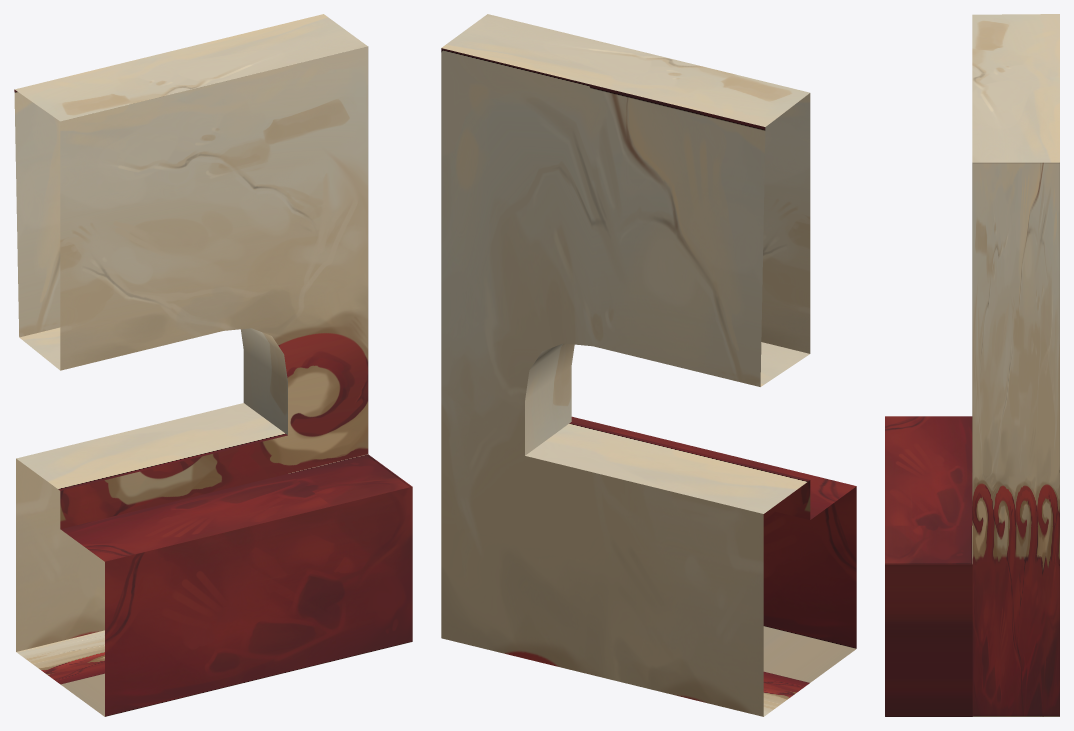
Rendered from fenetre2.fbx.
3 renders of one model, left to right at view 1: azimuth 30°, elevation 25°; view 2: azimuth 150°, elevation 25°; view 3: azimuth 270°, elevation 25°, orthographic. The views are drawn at different scales.
Parts seen in each view (by area): view 1: Box005; view 2: Box005; view 3: Box005.
Boxes of the visible parts, x1,y1,x2,y2 form: Box005: (14, 14, 412, 716); Box005: (441, 14, 856, 716); Box005: (885, 14, 1059, 716).
Bounding box in the file's own units: 1006 × 1750 × 500.
